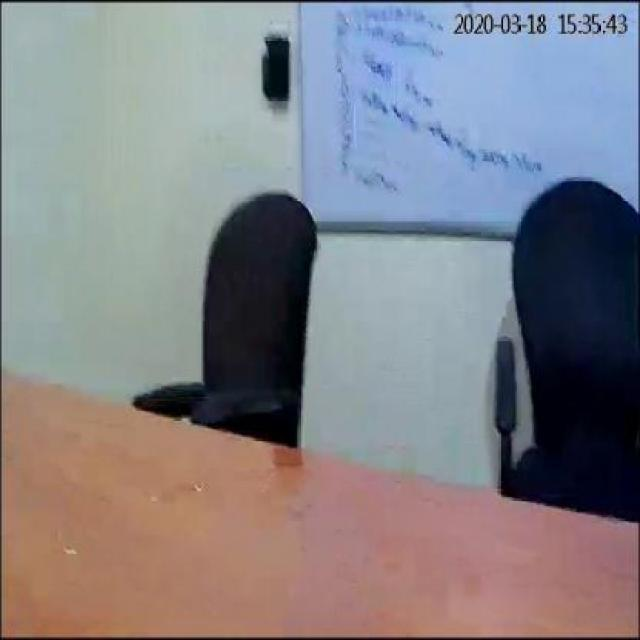spill: (143, 423, 309, 511)
